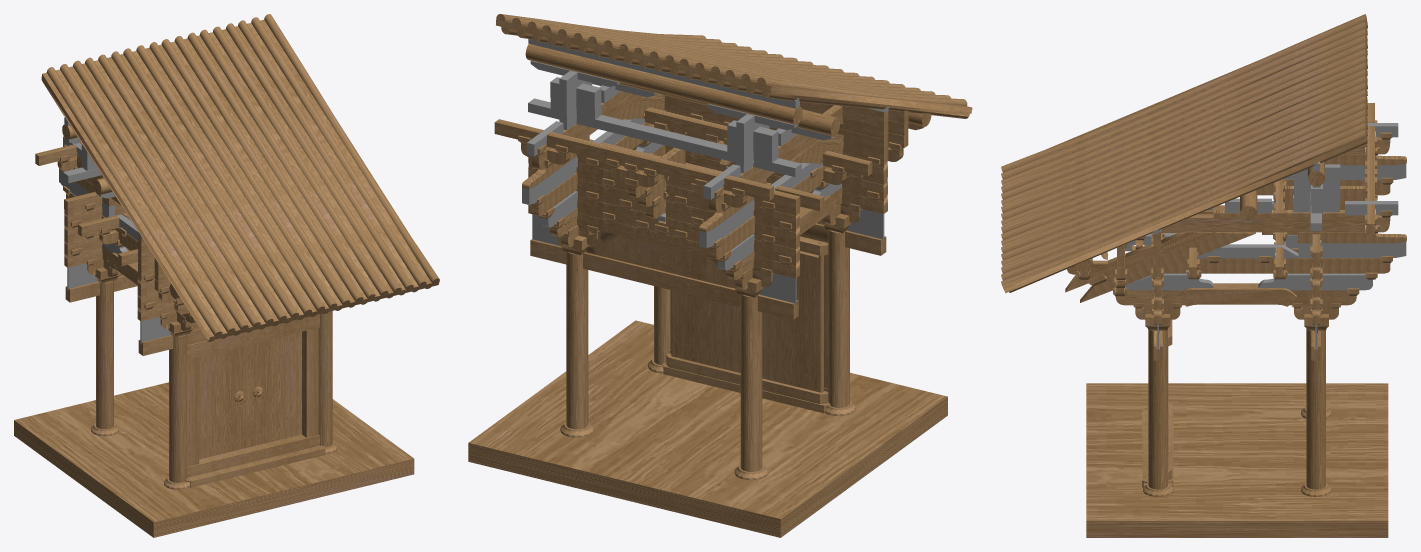
File: 佛光寺1 (2).fbx
3 renders of one model, left to right at view 1: azimuth 30°, elevation 25°; view 2: azimuth 150°, elevation 25°; view 3: azimuth 270°, elevation 25°, orthographic. The views are drawn at different scales.
Parts seen in each view (by area): view 1: 底座, 瓦片, 瓦片005, 瓦片001, 瓦片003, 瓦片002, 瓦片004, 大门1, 大门, 檐柱4, 檐柱2, 门槛 (+14 smaller); view 2: 底座, 大门, 瓦片, 椽子005, 大门1, 阑额2, 檐柱4, 檐柱3, 平棋枋一, 檐柱2, 压槽枋, 柱头枋一001 (+42 smaller); view 3: 底座, 瓦片005, 瓦片, 瓦片002, 瓦片001, 瓦片003, 瓦片004, 明乳付1, 草乳枋+华拱头003, 檐柱1, 檐柱3, 素枋002 (+18 smaller).
Part boxes in pixels (x1,y1,x2,y2): 底座: [14, 382, 414, 537]; 瓦片: [41, 60, 248, 341]; 瓦片005: [235, 14, 439, 295]; 瓦片001: [82, 51, 286, 332]; 瓦片003: [158, 32, 363, 313]; 瓦片002: [120, 42, 324, 323]; 瓦片004: [196, 23, 401, 304]; 大门1: [248, 332, 301, 447]; 大门: [199, 345, 248, 459]; 檐柱4: [96, 281, 113, 429]; 檐柱2: [169, 334, 186, 482]; 门槛: [187, 434, 319, 477]; 底座: [468, 320, 947, 537]; 大门: [762, 251, 819, 392]; 瓦片: [725, 70, 972, 118]; 椽子005: [525, 44, 802, 124]; 大门1: [672, 290, 740, 372]; 阑额2: [530, 239, 798, 319]; 檐柱4: [740, 294, 762, 471]; 檐柱3: [566, 251, 588, 429]; 平棋枋一: [494, 119, 773, 200]; 檐柱2: [828, 230, 849, 407]; 压槽枋: [528, 98, 801, 176]; 柱头枋一001: [528, 204, 799, 278]; 底座: [1086, 383, 1388, 537]; 瓦片005: [1001, 115, 1367, 293]; 瓦片: [1001, 14, 1367, 185]; 瓦片002: [1001, 54, 1367, 226]; 瓦片001: [1001, 34, 1367, 205]; 瓦片003: [1001, 74, 1367, 246]; 瓦片004: [1001, 95, 1367, 266]; 明乳付1: [1115, 283, 1356, 306]; 草乳枋+华拱头003: [1161, 214, 1390, 232]; 檐柱1: [1148, 329, 1167, 489]; 檐柱3: [1306, 328, 1325, 489]; 素枋002: [1163, 255, 1390, 273].
Bounding box in the file's own units: 33.88 × 45.95 × 42.25.
2 materials, 1 textured.
